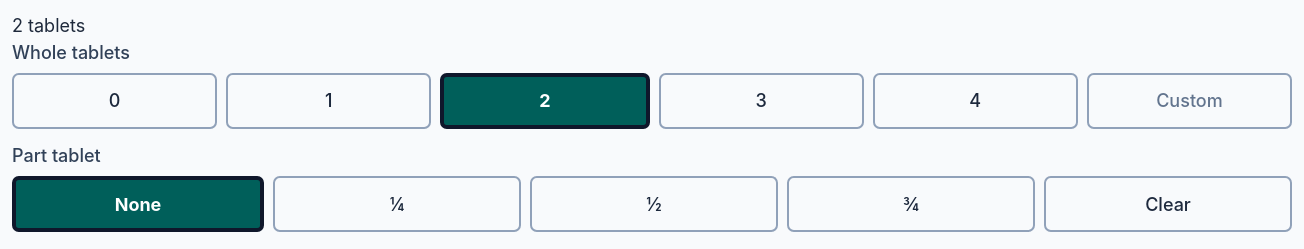
Scenario: DosePicker custom whole-tablets input › typing "0" in the custom field sets the dose to 0 without pressing the fixed "0" button
In the field: (1189, 101) [1087,73,1292,129], type "0"
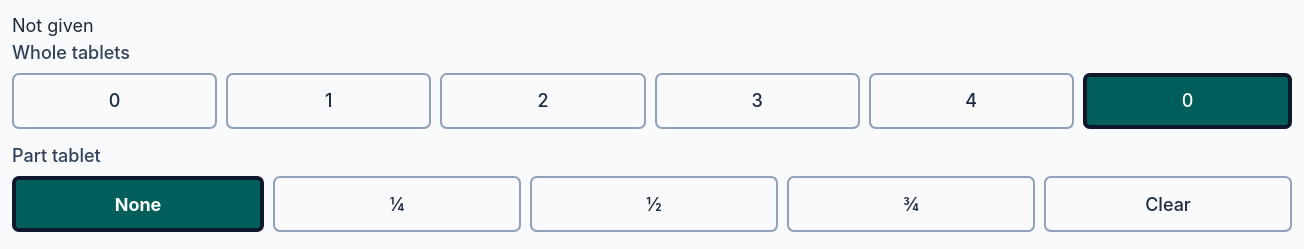
Check: the text "Not given" is shown, box [12,15,94,36]
